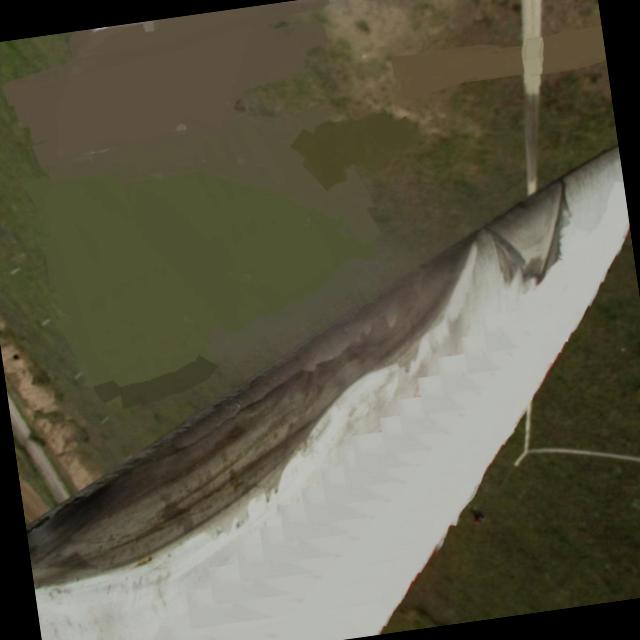surface_peeling: (12, 371, 312, 580), (282, 241, 494, 411)
